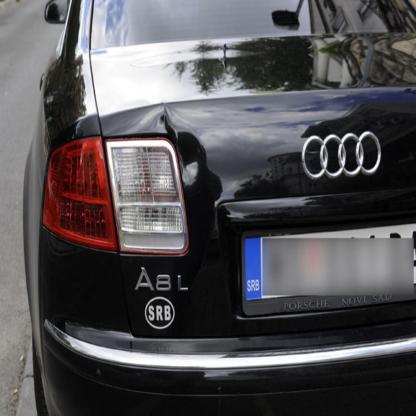rear_bumper: (43, 304, 416, 415), (40, 139, 186, 254)
